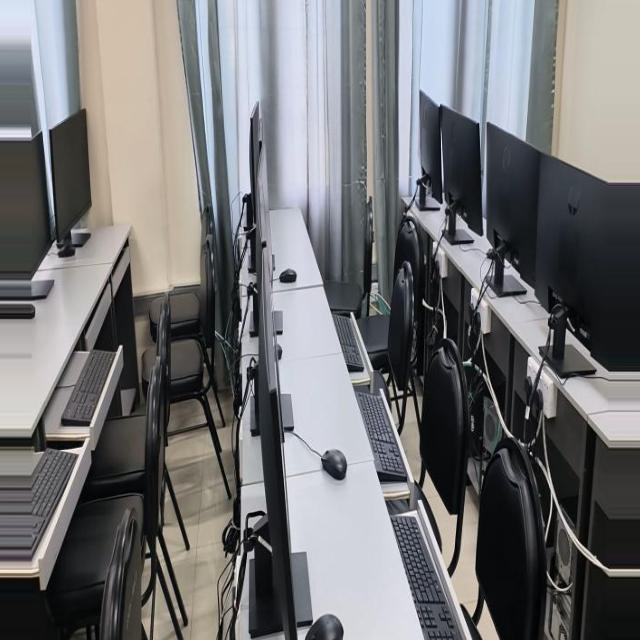Chair: (70, 430, 165, 639), (154, 338, 215, 566), (210, 263, 264, 430), (516, 500, 565, 639), (261, 203, 315, 318), (207, 221, 241, 324), (243, 309, 282, 367)
Keyboard: (161, 508, 241, 639), (590, 444, 640, 550), (223, 388, 280, 475), (547, 350, 605, 421), (271, 313, 306, 370)
Monitor: (345, 251, 399, 639), (0, 162, 82, 374), (76, 130, 136, 297), (140, 114, 187, 247), (572, 119, 619, 250), (615, 141, 640, 282), (185, 100, 212, 214)
Mouse: (294, 601, 338, 639), (290, 443, 318, 473), (591, 247, 610, 261), (346, 270, 365, 284), (362, 343, 367, 359), (635, 305, 640, 319)
